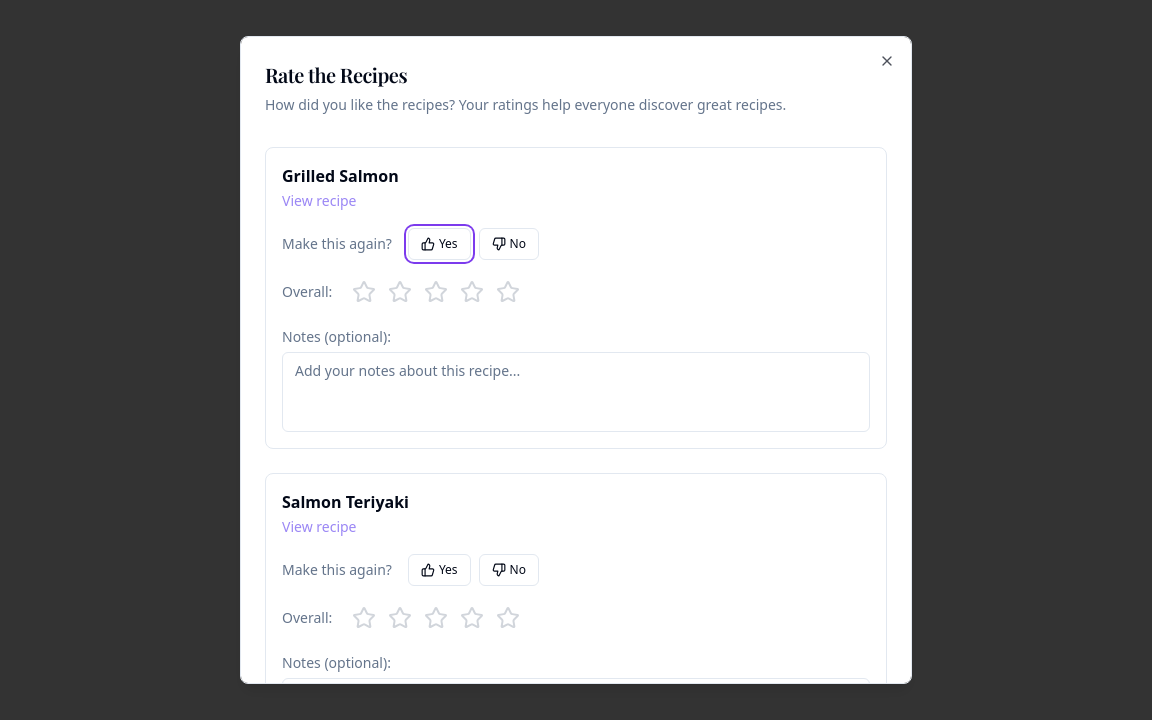
Scenario: EventRatingDialog › updates unrated count as recipes are rated
Note: Rate first recipe
Click the button "Yes" below "Grilled Salmon" at (439,244), box [408,228,471,260]
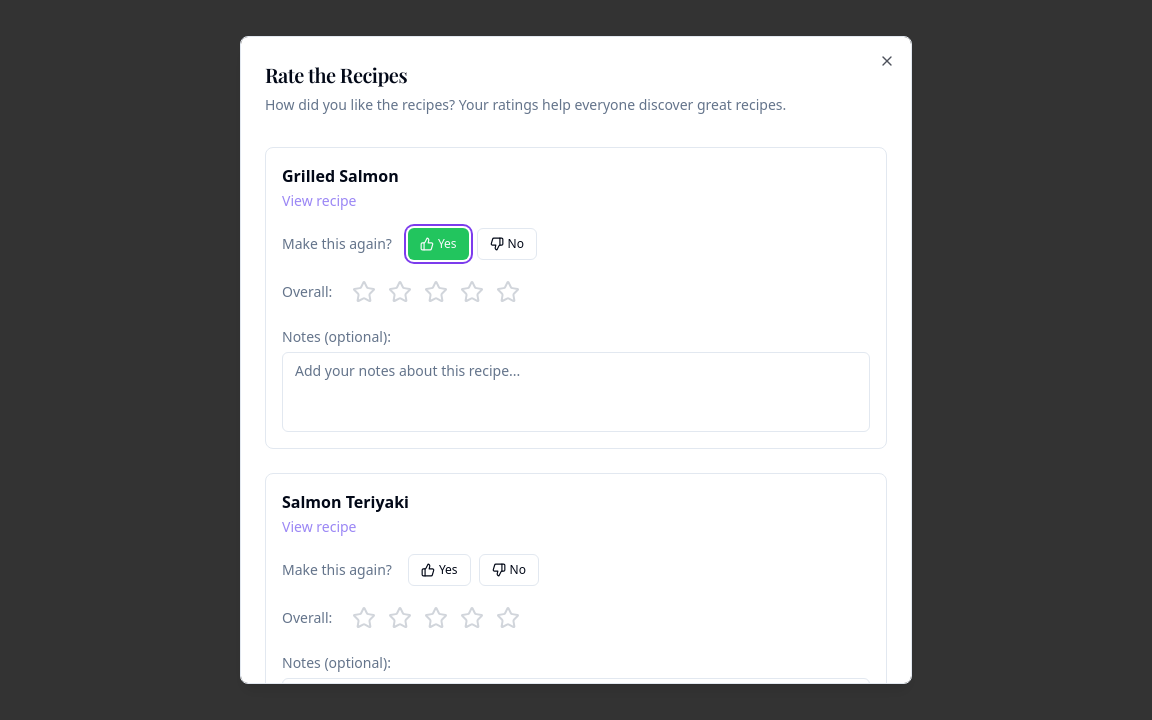
Click the button named "Rate 5 out of 5 stars" below "Grilled Salmon" at (508,292), box [492,276,524,308]
(page scrolled)
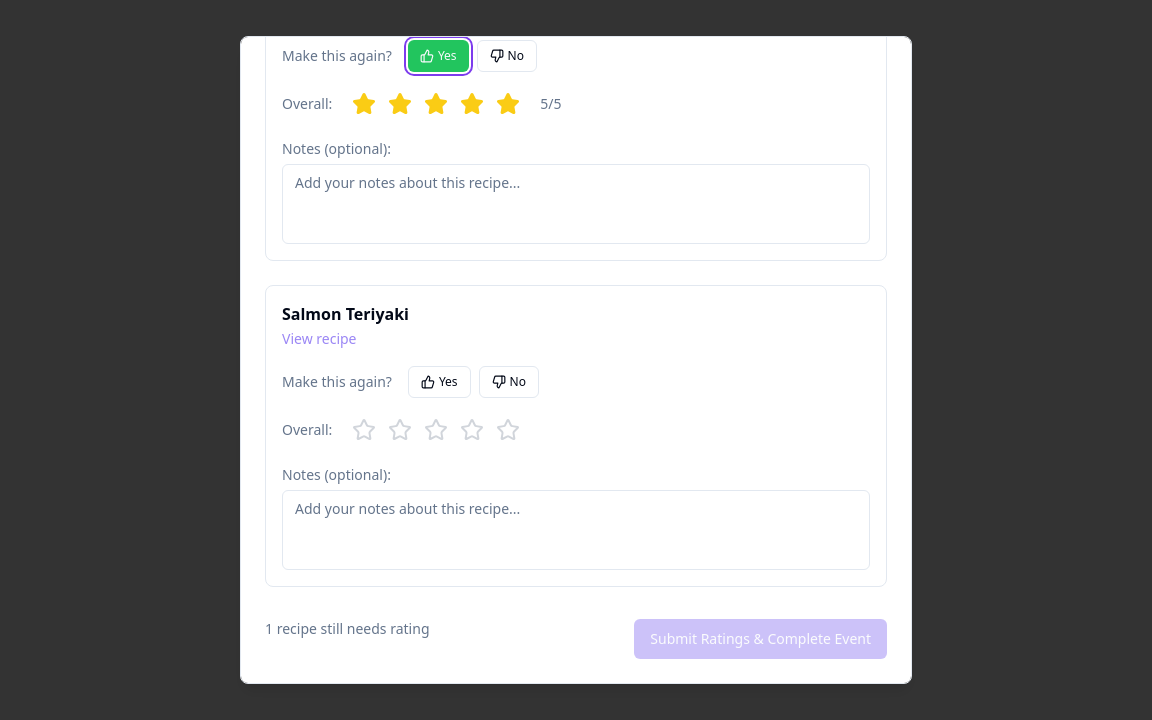
Expected: the text "1 recipe still needs rating" is shown, [265,619,430,638]
